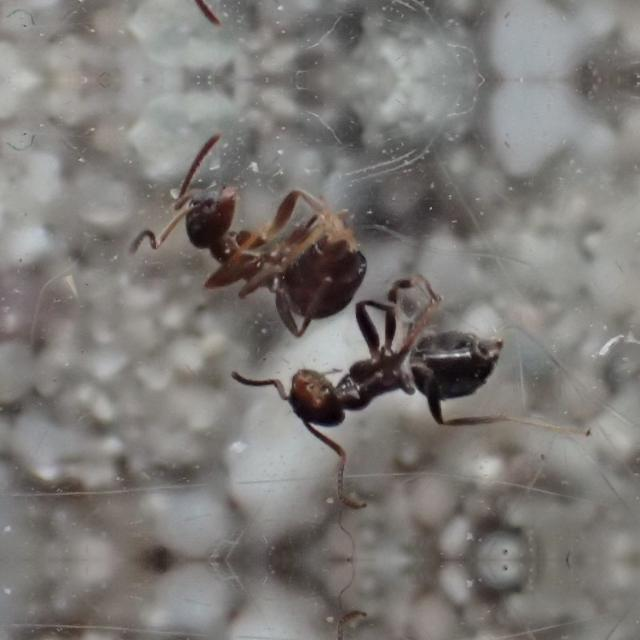Lasius: (262, 300, 534, 478), (146, 160, 374, 342)
